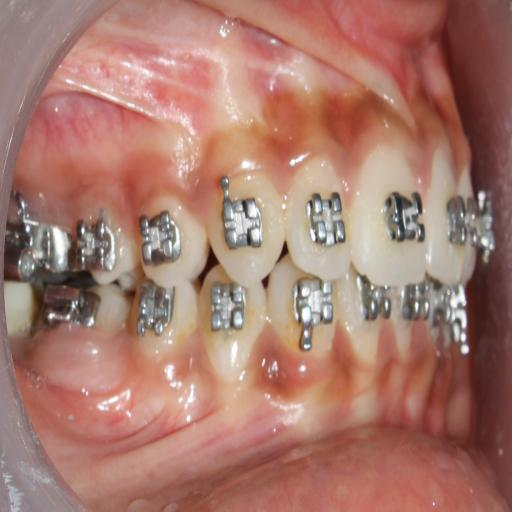correct_brace: (134, 188, 212, 291), (381, 185, 426, 250), (302, 189, 348, 250), (217, 198, 266, 253), (448, 195, 469, 255)
incorrect_brace: (284, 156, 348, 278), (137, 215, 184, 265)
